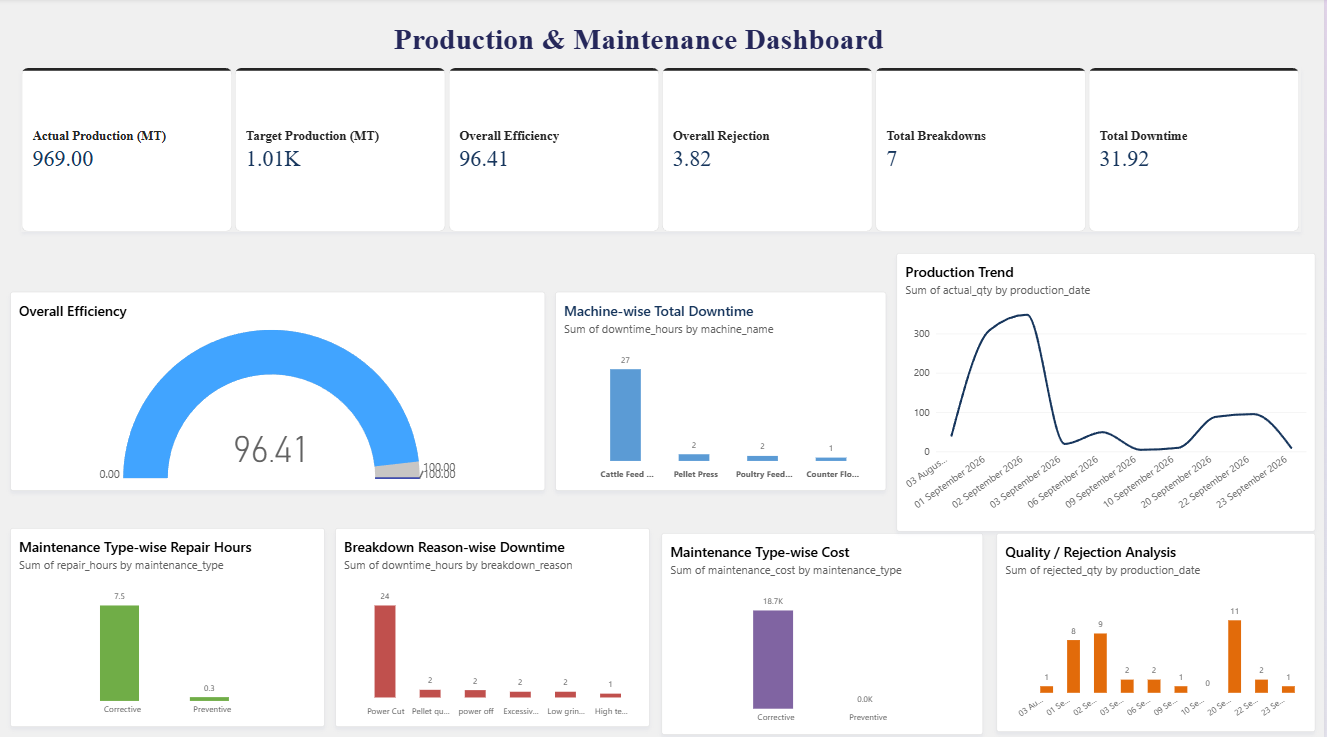

This screenshot's page, from the dashboard's own definition file:
{"tool":"powerbi","page":{"name":"Production & Maintenance Dashboard","canvas":[1920,1080],"ordinal":0},"visuals":[{"type":"cardVisual","title":"Total Actual Production (MT)","fields":{"Data":["Sum(production_maintenance_db production_records.actual_qty)","Sum(production_maintenance_db production_records.target_qty)","production_maintenance_db breakdowns.Overall Efficiency","production_maintenance_db breakdowns.Overall Rejection","production_maintenance_db breakdowns.Measure","production_maintenance_db breakdowns.Total Downtime"]},"box":[32.2,100.8,1852.9,237.1],"z":0},{"type":"clusteredColumnChart","title":"Machine-wise Total Downtime","fields":{"Category":["production_maintenance_db machines.machine_name"],"Y":["Sum(production_maintenance_db breakdowns.downtime_hours)"]},"box":[805.3,425.3,479.6,287.7],"z":1000},{"type":"clusteredColumnChart","title":"Breakdown Reason-wise Downtime","fields":{"Category":["production_maintenance_db breakdowns.breakdown_reason"],"Y":["Sum(production_maintenance_db breakdowns.downtime_hours)"]},"box":[487.7,767.8,455.4,288.2],"z":2000},{"type":"clusteredColumnChart","title":"Maintenance Type-wise Cost","fields":{"Category":["production_maintenance_db maintenance_record.maintenance_type"],"Y":["Sum(production_maintenance_db maintenance_record.maintenance_cost)"]},"box":[959.2,773.8,465.5,292.2],"z":3000},{"type":"clusteredColumnChart","title":"Maintenance Type-wise Repair Hours","fields":{"Category":["production_maintenance_db maintenance_record.maintenance_type"],"Y":["Sum(production_maintenance_db maintenance_record.repair_hours)"]},"box":[16.1,767.8,455.4,288.2],"z":4000},{"type":"textbox","title":"Production & Maintenance Dashboard","box":[0,0,1853,233],"z":5000},{"type":"lineChart","title":"Production Trend","fields":{"Category":["production_maintenance_db production_records.production_date"],"Y":["Sum(production_maintenance_db production_records.actual_qty)"]},"box":[1299.8,368.8,606.6,403],"z":6000},{"type":"clusteredColumnChart","title":"Quality / Rejection Analysis","fields":{"Category":["production_maintenance_db production_records.production_date"],"Y":["Sum(production_maintenance_db production_records.rejected_qty)"]},"box":[1444.8,773.8,461.5,288.2],"z":7000},{"type":"gauge","fields":{"Y":["production_maintenance_db breakdowns.Overall Efficiency"]},"box":[16.1,425.2,774,288],"z":7001}]}

Visuals, with their boxes in screenshot pixels (x1, y1, x2, y2), scaled from the page's 1920x1080 canvas onto the 1327x737 screenshot:
"Total Actual Production (MT)" cardVisual: (left=22, top=69, right=1303, bottom=231)
"Machine-wise Total Downtime" clusteredColumnChart: (left=557, top=290, right=888, bottom=487)
"Breakdown Reason-wise Downtime" clusteredColumnChart: (left=337, top=524, right=652, bottom=721)
"Maintenance Type-wise Cost" clusteredColumnChart: (left=663, top=528, right=985, bottom=727)
"Maintenance Type-wise Repair Hours" clusteredColumnChart: (left=11, top=524, right=326, bottom=721)
"Production & Maintenance Dashboard" textbox: (left=0, top=0, right=1281, bottom=159)
"Production Trend" lineChart: (left=898, top=252, right=1318, bottom=527)
"Quality / Rejection Analysis" clusteredColumnChart: (left=999, top=528, right=1318, bottom=725)
gauge - production_maintenance_db breakdowns.Overall Efficiency: (left=11, top=290, right=546, bottom=487)
